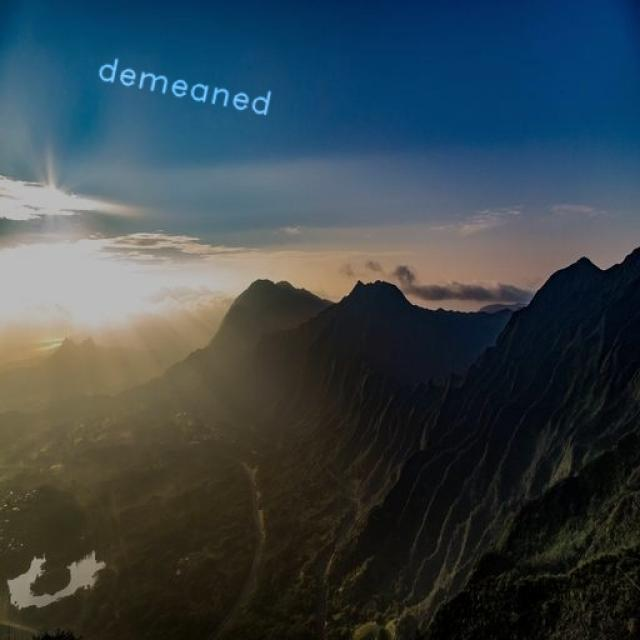watermark: (87, 52, 292, 120)
